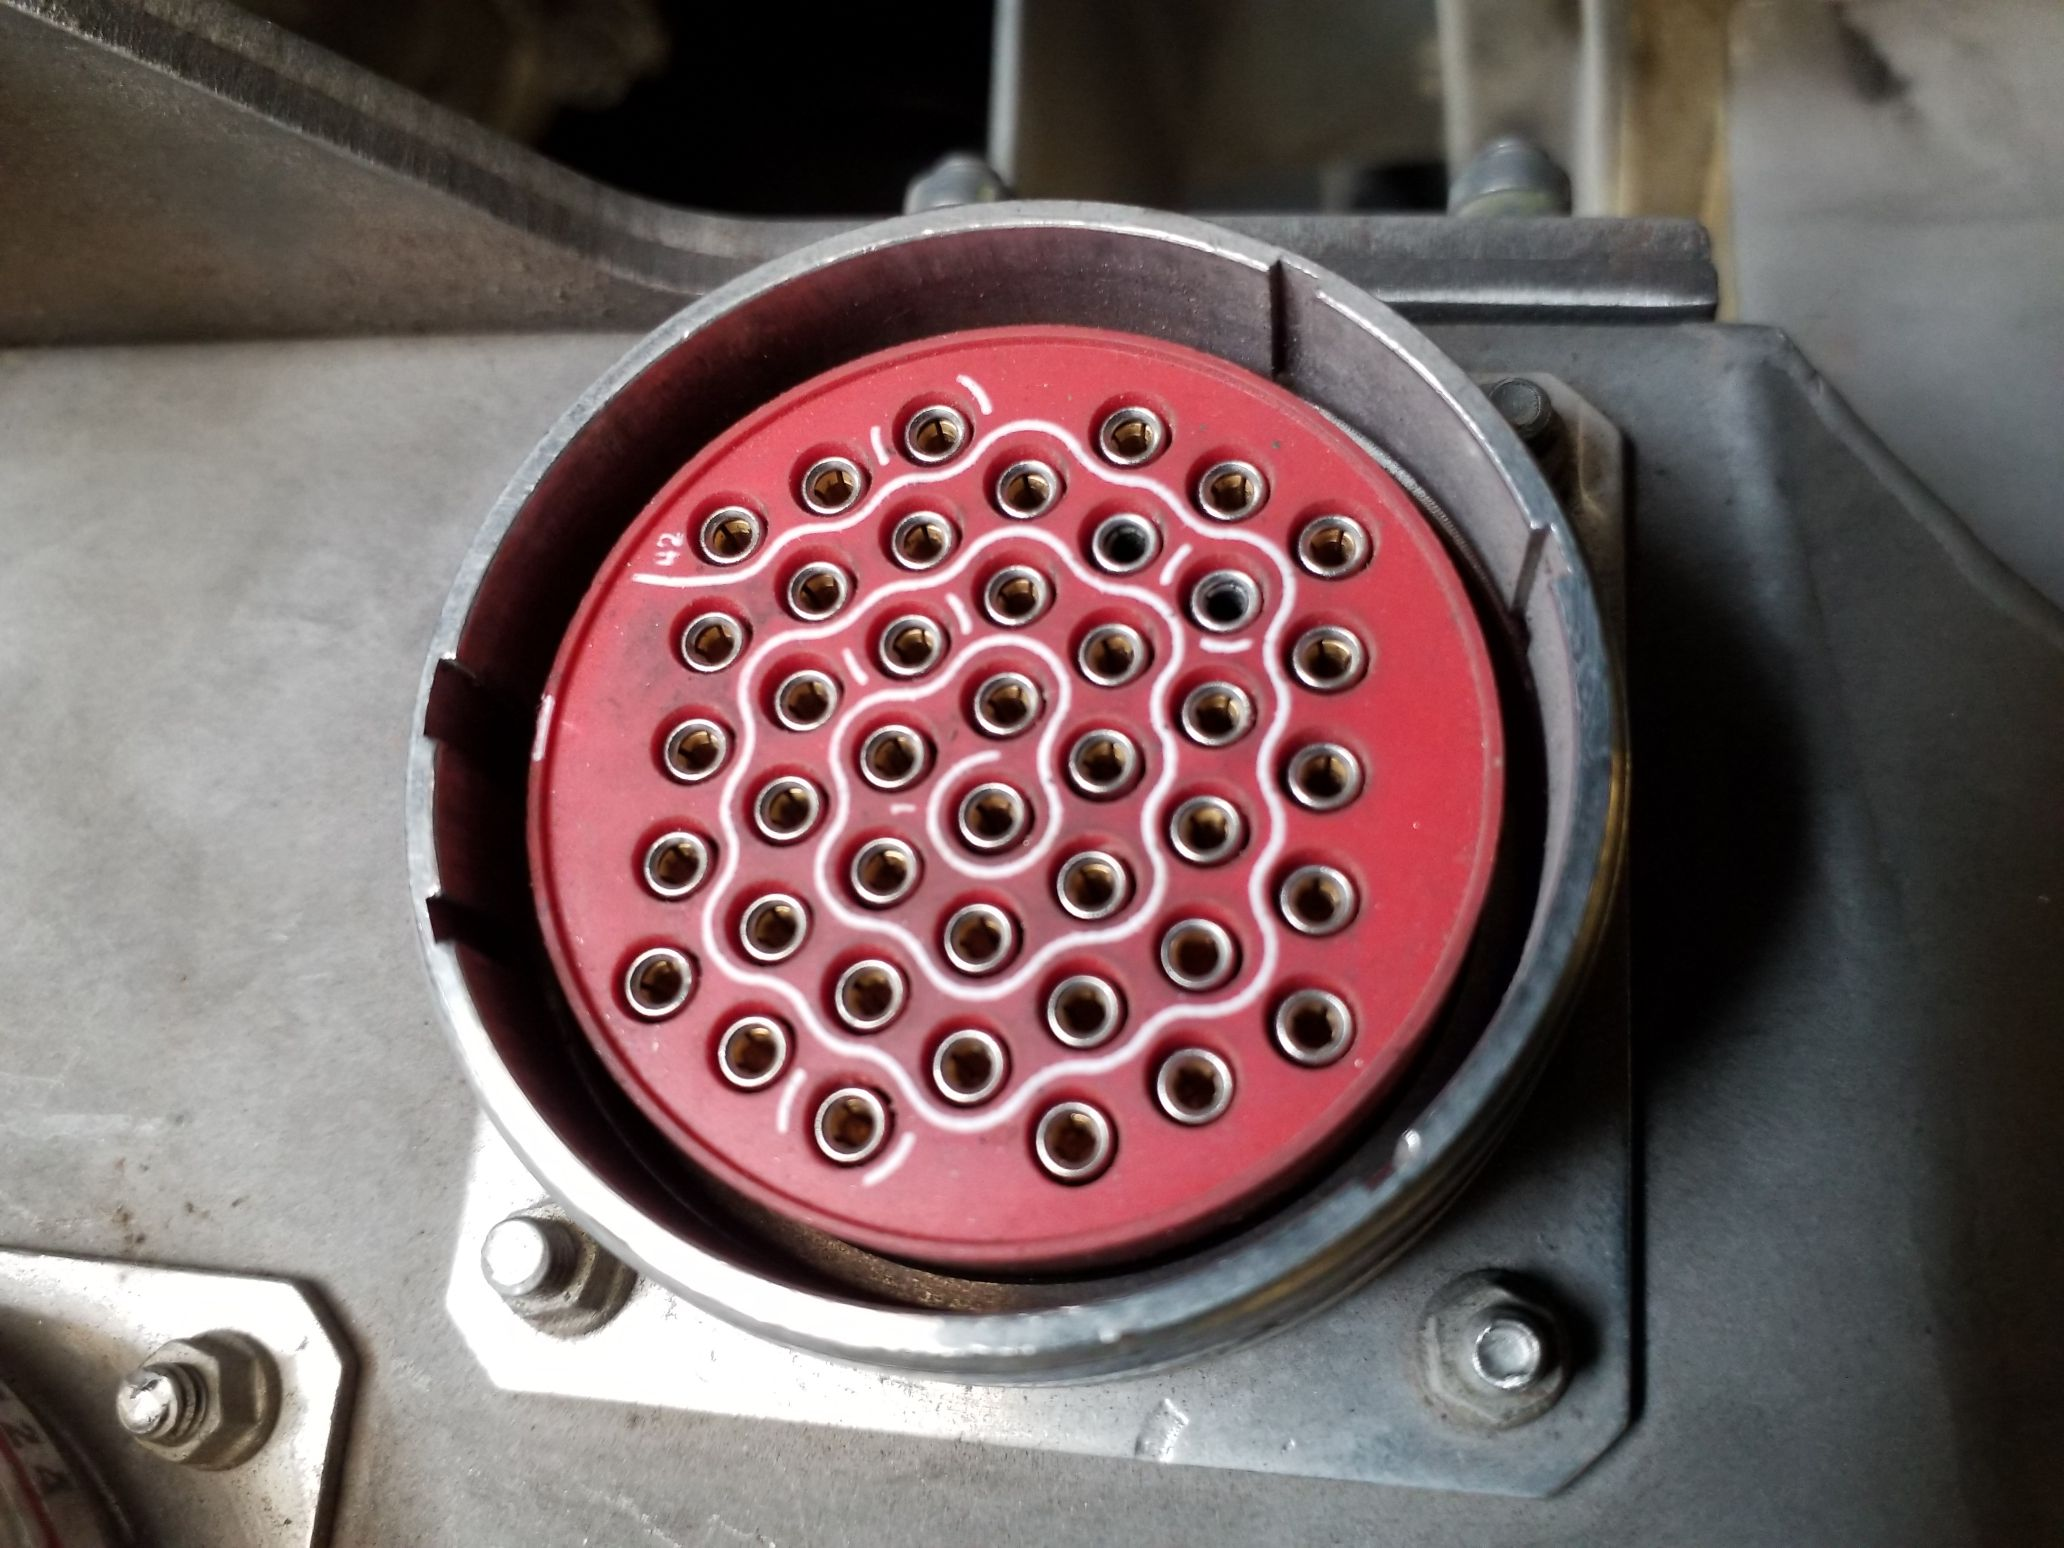inletround: (382, 182, 1633, 1433)
